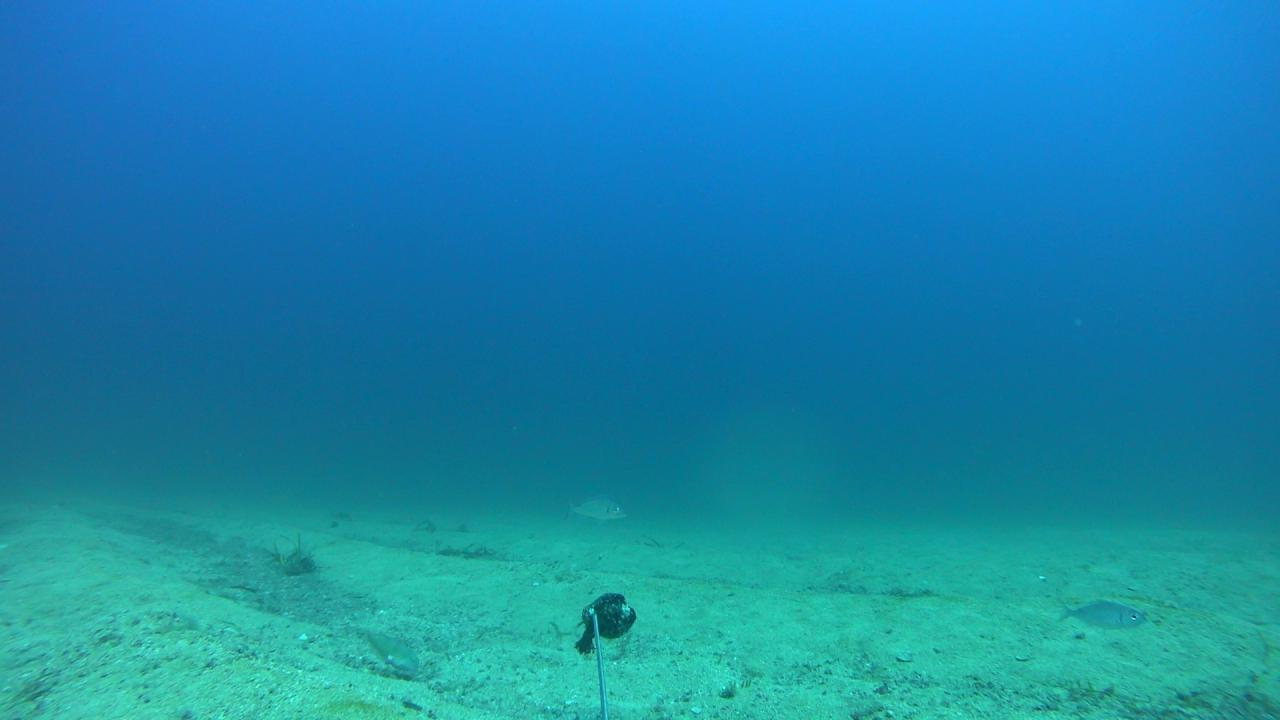pagellus: (1057, 596, 1145, 631), (561, 490, 624, 524)
raor: (347, 624, 421, 674)
